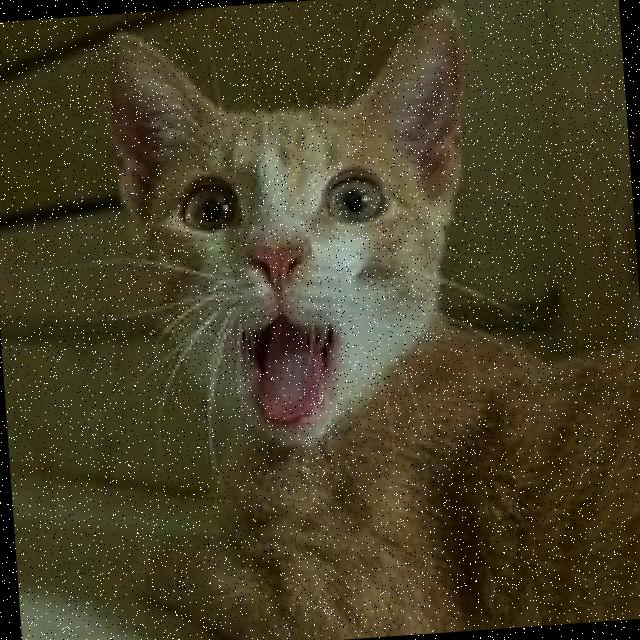Surprised: (149, 136, 428, 467)
